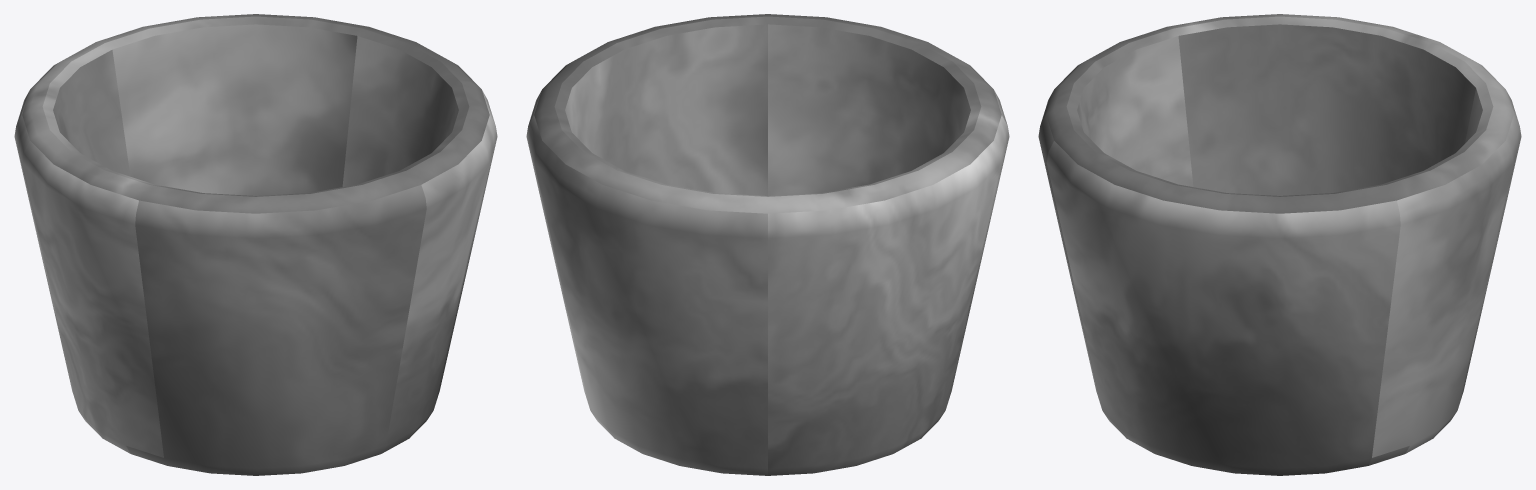
File: SM_glass_01.fbx
3 views of the same model, side by side, from view 1: azimuth 30°, elevation 25°; view 2: azimuth 150°, elevation 25°; view 3: azimuth 270°, elevation 25° (orthographic).
Parts seen in each view (by area): view 1: SM_glass_01; view 2: SM_glass_01; view 3: SM_glass_01.
Part boxes in pixels (x1,y1,x2,y2): SM_glass_01: (14, 14, 497, 475); SM_glass_01: (526, 14, 1009, 475); SM_glass_01: (1038, 14, 1521, 475).
Size of the model in its own units: 8.18 by 8.18 by 5.57.
Materials: 1 (1 with a texture image).
